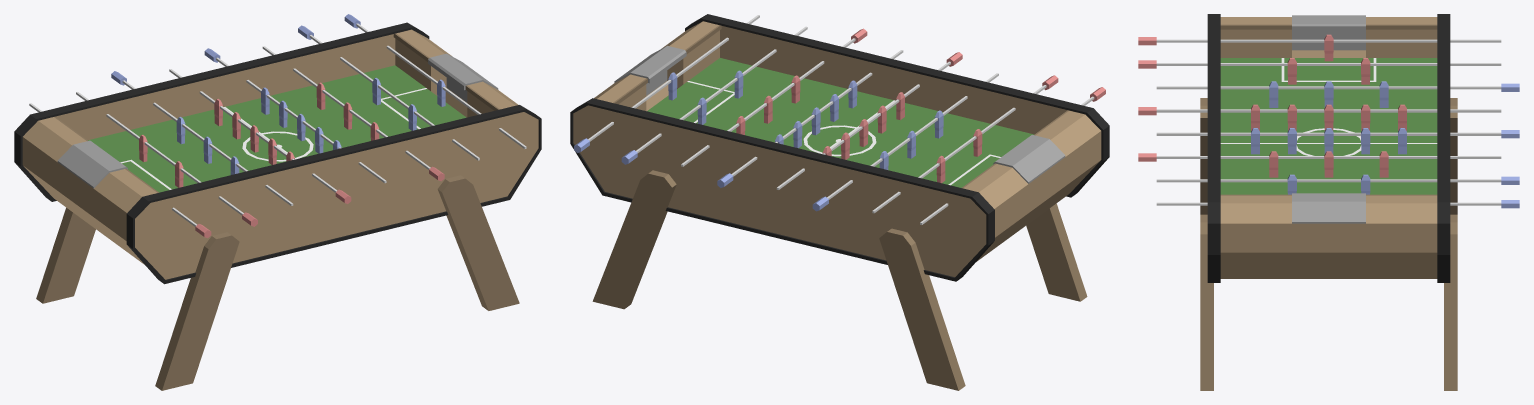
Rendered from babyfoot.gltf.
3 renders of one model, left to right at view 1: azimuth 30°, elevation 25°; view 2: azimuth 150°, elevation 25°; view 3: azimuth 270°, elevation 25°, orthographic. The views are drawn at different scales.
Visible parts, largest first — view 1: BabyFoot, MiddleRed, MiddleBlue, AttackRed, AttackBlue, DefenseRed, DefenseBlue, GoalBlue; view 2: BabyFoot, MiddleBlue, MiddleRed, AttackRed, AttackBlue, DefenseRed, DefenseBlue, GoalBlue; view 3: BabyFoot, MiddleBlue, MiddleRed, AttackBlue, AttackRed, DefenseBlue, GoalRed, DefenseRed, GoalBlue.
Boxes of the visible parts, x1,y1,x2,y2 form: BabyFoot: (14,22,541,390); MiddleRed: (169,69,351,203); MiddleBlue: (204,48,386,183); AttackRed: (262,46,444,181); AttackBlue: (111,71,293,205); DefenseRed: (76,92,257,226); DefenseBlue: (298,25,479,160); GoalBlue: (344,14,526,148); BabyFoot: (570,14,1109,390); MiddleBlue: (717,50,903,187); MiddleRed: (776,52,962,189); AttackRed: (681,28,867,166); AttackBlue: (812,73,998,211); DefenseRed: (872,75,1058,213); DefenseBlue: (621,26,807,164); GoalBlue: (574,15,759,152); BabyFoot: (1200,14,1457,390); MiddleBlue: (1156,128,1519,154); MiddleRed: (1138,104,1501,130); AttackBlue: (1156,81,1519,107); AttackRed: (1138,151,1501,177); DefenseBlue: (1156,174,1519,194); GoalRed: (1138,34,1501,61); DefenseRed: (1138,58,1501,84); GoalBlue: (1156,200,1519,208).
Bounding box in the file's own units: 26.26 × 11.62 × 20.75.
